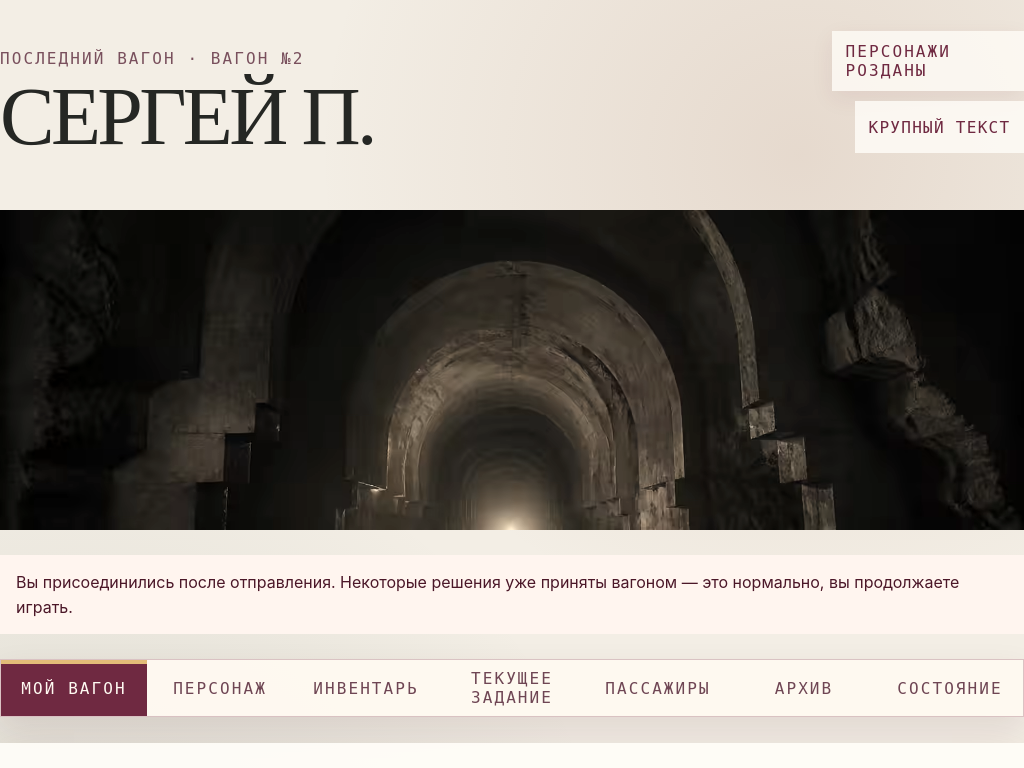
Test: BunkerPlayerDashboard › opens inventory with explicit item status
Click the button "ИНВЕНТАРЬ": (366,688) [293,660,439,716]
(page scrolled)
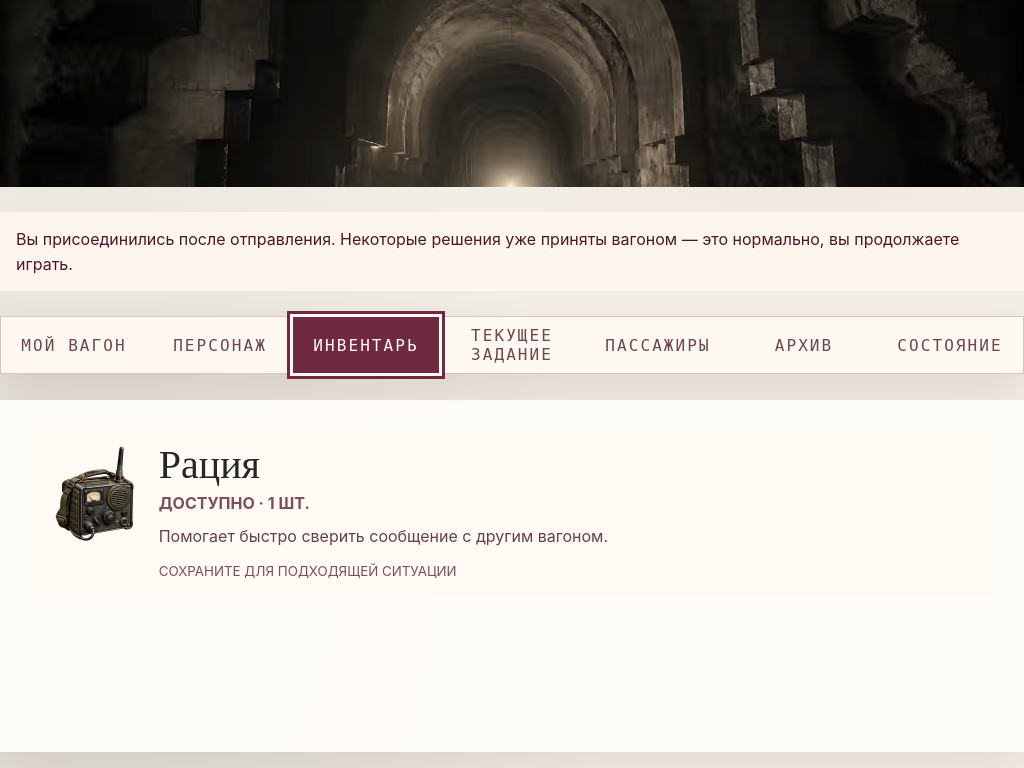
Expected: the heading "Рация" is shown, [159,442,260,487]
Expected: the text "Помогает быстро сверить сообщение с другим вагоном." is shown, [159,526,608,546]
Expected: the text "ДОСТУПНО" is shown, [159,494,255,514]
